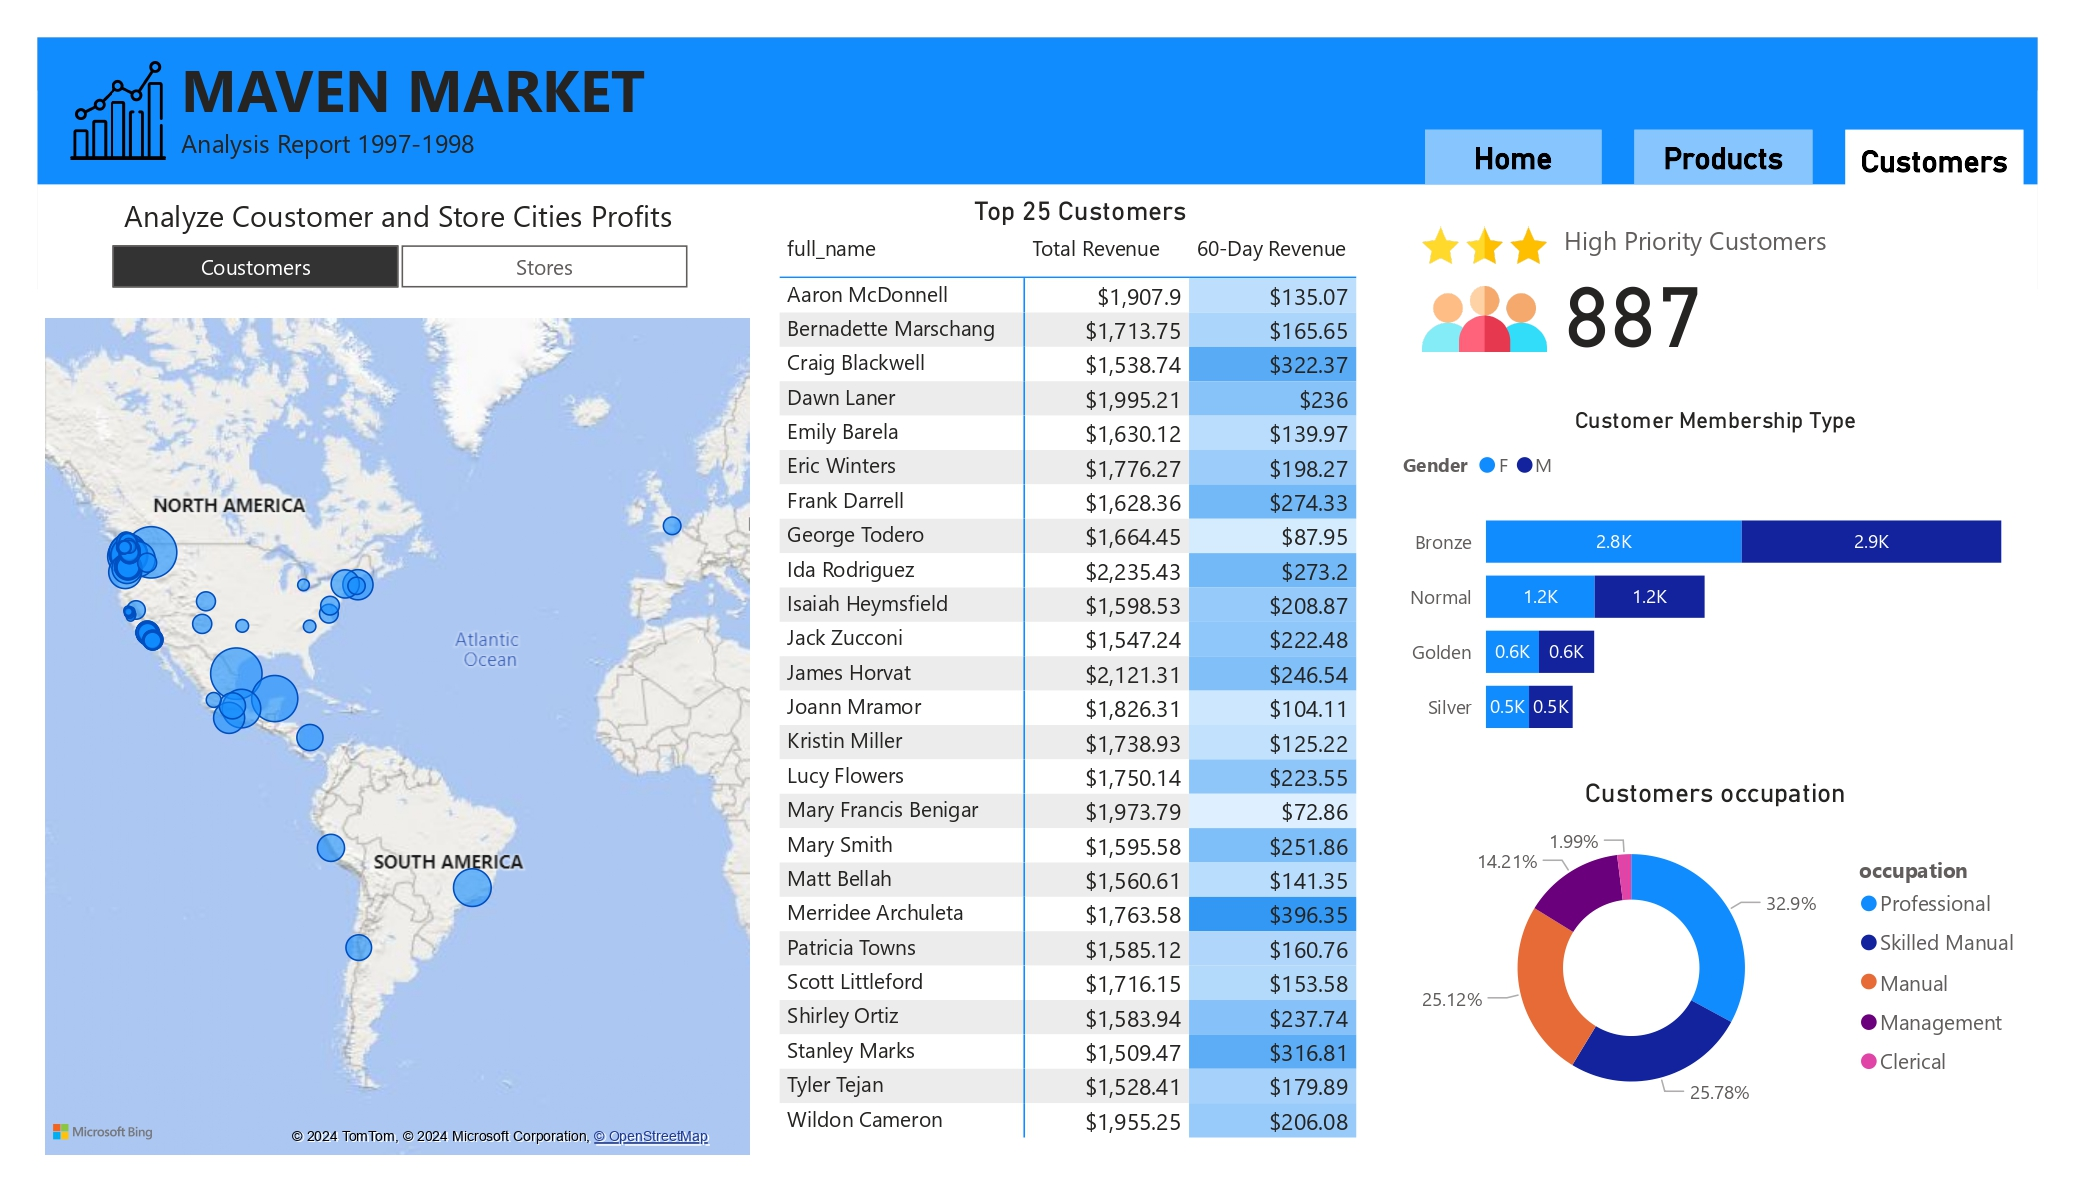

This screenshot's page, from the dashboard's own definition file:
{"tool":"powerbi","page":{"name":"Coustomers","canvas":[1280,720],"ordinal":2},"visuals":[{"type":"shape","box":[0,0,1280.3,94.2],"z":0},{"type":"image","box":[4.9,9.6,91.7,73.4],"z":1000},{"type":"textbox","box":[87,3.5,382.7,85.6],"z":2000},{"type":"map","fields":{"Category":["Citys Union.City"],"Size":["Measure Set.Total Profit"]},"box":[0,174.9,461,545.4],"z":3000},{"type":"slicer","title":"Analyze Coustomer and Store Cities Profits","fields":{"Values":["Citys Table.Source"]},"box":[21.7,101.3,418.2,64.8],"z":4000},{"type":"cardVisual","fields":{"Data":["Measure Set.High Priority Customers"]},"box":[869.1,101.3,388.9,121.1],"z":5000},{"type":"barChart","title":"Customer Membership Type","fields":{"Category":["Customers.member_card"],"Y":["Measure Set.Total Customers"],"Series":["Customers.gender"]},"box":[869.4,237.2,409.6,225],"z":6000},{"type":"donutChart","title":"Customers occupation","fields":{"Category":["Customers.occupation"],"Y":["Customers.occupation"]},"box":[869.4,473.2,409.6,226.2],"z":7000},{"type":"pivotTable","title":"Top 25 Customers","fields":{"Rows":["Customers.full_name"],"Values":["Measure Set.Total Revenue","Measure Set.60-Day Revenue"]},"box":[469.6,101.5,395,618.8],"z":8000},{"type":"actionButton","title":"Home","box":[887.8,58.7,113.7,35.5],"z":8001},{"type":"actionButton","title":"Home","box":[1022.3,58.7,113.7,35.5],"z":8002},{"type":"actionButton","title":"Home","box":[1156.8,58.7,113.7,39.1],"z":8003}]}

Visuals, with their boxes on the page's 1280x720 design canvas (x1, y1, x2, y2). These are canvas units, not pixel positions in the 2075x1200 screenshot, which may show the page scaled, cropped or inside an application window:
shape: [0, 0, 1280, 94]
image: [5, 10, 97, 83]
textbox: [87, 4, 470, 89]
map - Citys Union.City x Measure Set.Total Profit: [0, 175, 461, 720]
"Analyze Coustomer and Store Cities Profits" slicer: [22, 101, 440, 166]
cardVisual - Measure Set.High Priority Customers: [869, 101, 1258, 222]
"Customer Membership Type" barChart: [869, 237, 1279, 462]
"Customers occupation" donutChart: [869, 473, 1279, 699]
"Top 25 Customers" pivotTable: [470, 102, 865, 720]
"Home" actionButton: [888, 59, 1002, 94]
"Home" actionButton: [1022, 59, 1136, 94]
"Home" actionButton: [1157, 59, 1270, 98]
